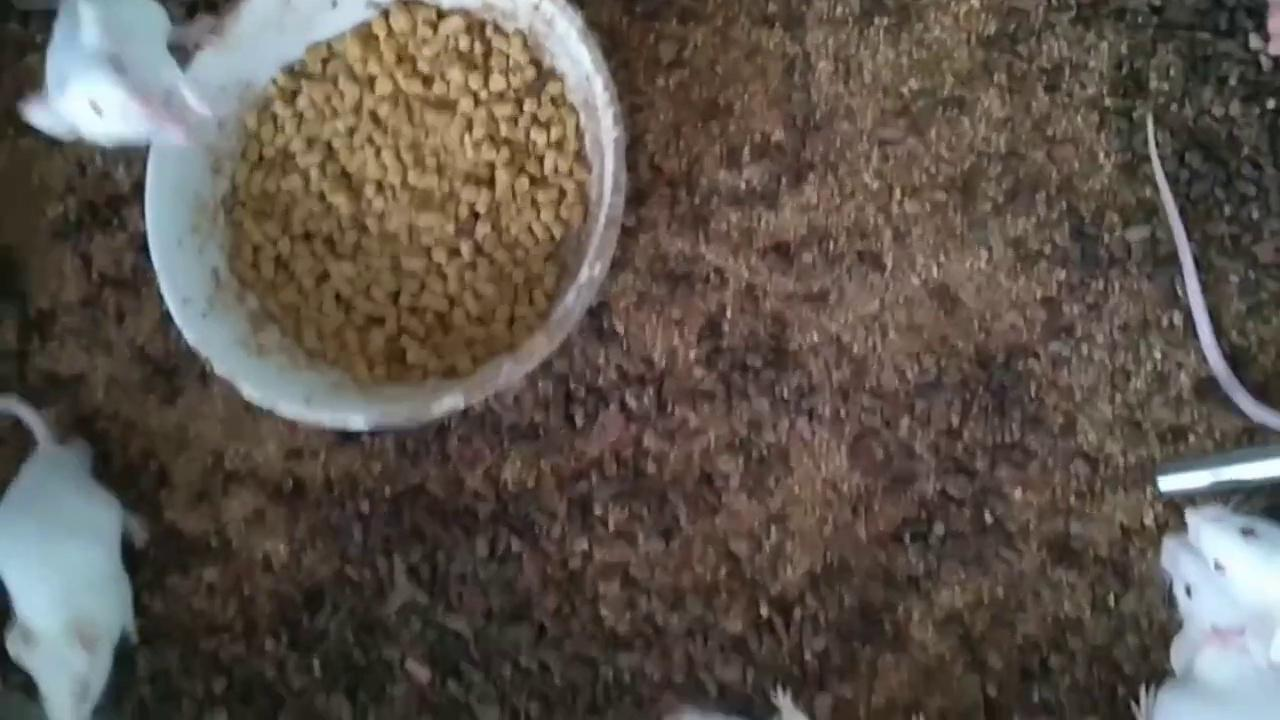rat: (0, 392, 150, 720), (1129, 530, 1280, 720), (13, 0, 213, 143), (1187, 505, 1280, 664)
